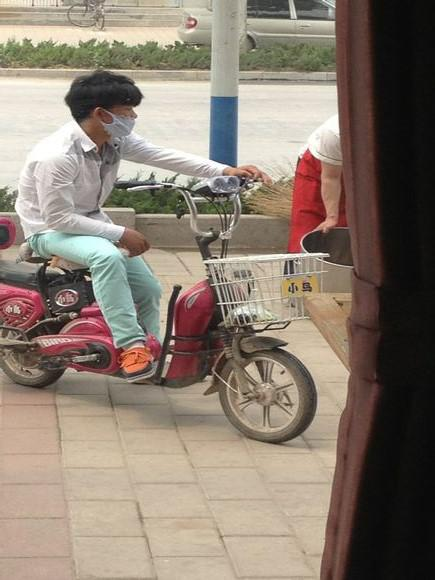WRONG: (93, 93, 139, 144)
